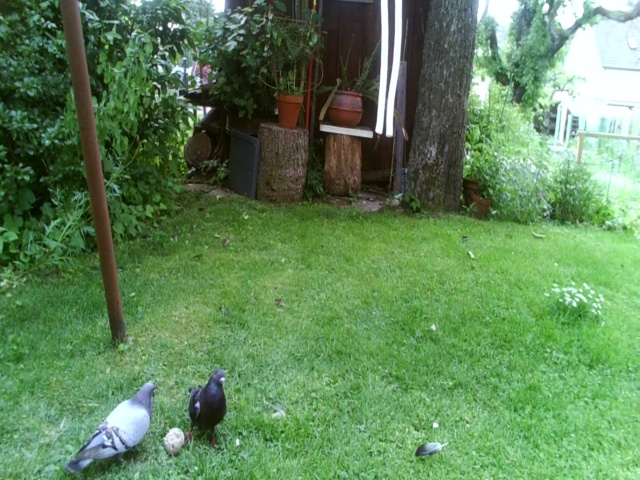Pigeon: (53, 379, 164, 480), (182, 367, 241, 449)
